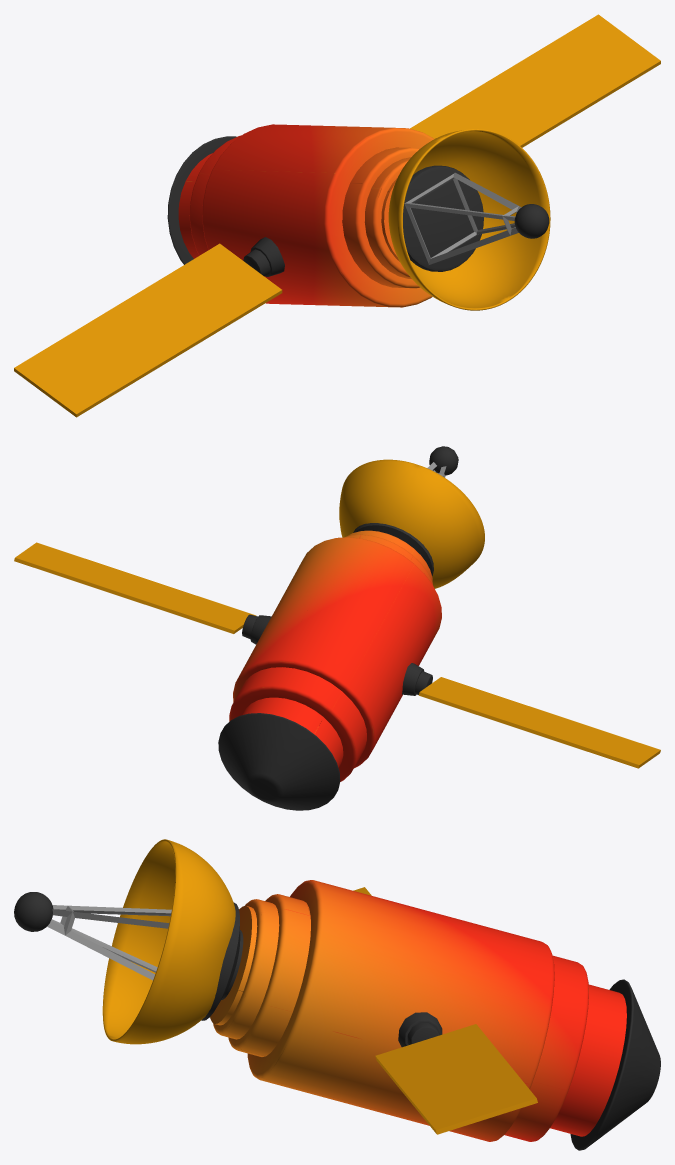
Rendered from satellite.glb.
The picture shows the model from 3 angles, top to bottom: view 1: azimuth 30°, elevation 25°; view 2: azimuth 150°, elevation 25°; view 3: azimuth 270°, elevation 25°; orthographic projection. The views are drawn at different scales.
Parts seen in each view (by area): view 1: Cylinder, Cylinder.001, Sphere, Cube.001, Cylinder.002, Cylinder.003, Sphere.001; view 2: Cylinder, Cylinder.001, Sphere, Cylinder.002, Cylinder.003, Sphere.001; view 3: Cylinder, Sphere, Cylinder.001, Cylinder.002, Cube.001, Sphere.001, Cylinder.003.
Boxes of the visible parts, bbox=[...] form: Cylinder: bbox=[178, 124, 483, 307]; Cylinder.001: bbox=[14, 14, 660, 417]; Sphere: bbox=[388, 129, 550, 310]; Cube.001: bbox=[404, 172, 521, 264]; Cylinder.002: bbox=[167, 136, 236, 264]; Cylinder.003: bbox=[243, 237, 284, 276]; Sphere.001: bbox=[514, 204, 549, 238]; Cylinder: bbox=[229, 523, 441, 781]; Cylinder.001: bbox=[14, 542, 660, 768]; Sphere: bbox=[339, 459, 484, 588]; Cylinder.002: bbox=[218, 713, 340, 810]; Cylinder.003: bbox=[242, 614, 432, 695]; Sphere.001: bbox=[429, 446, 458, 475]; Cylinder: bbox=[201, 880, 626, 1141]; Sphere: bbox=[102, 839, 235, 1044]; Cylinder.001: bbox=[353, 887, 537, 1134]; Cylinder.002: bbox=[570, 979, 660, 1150]; Cube.001: bbox=[47, 905, 171, 980]; Sphere.001: bbox=[14, 892, 53, 931]; Cylinder.003: bbox=[398, 1012, 442, 1047].
Size of the model in its own units: 8.69 by 3.35 by 6.25.
4 materials, 1 textured.
